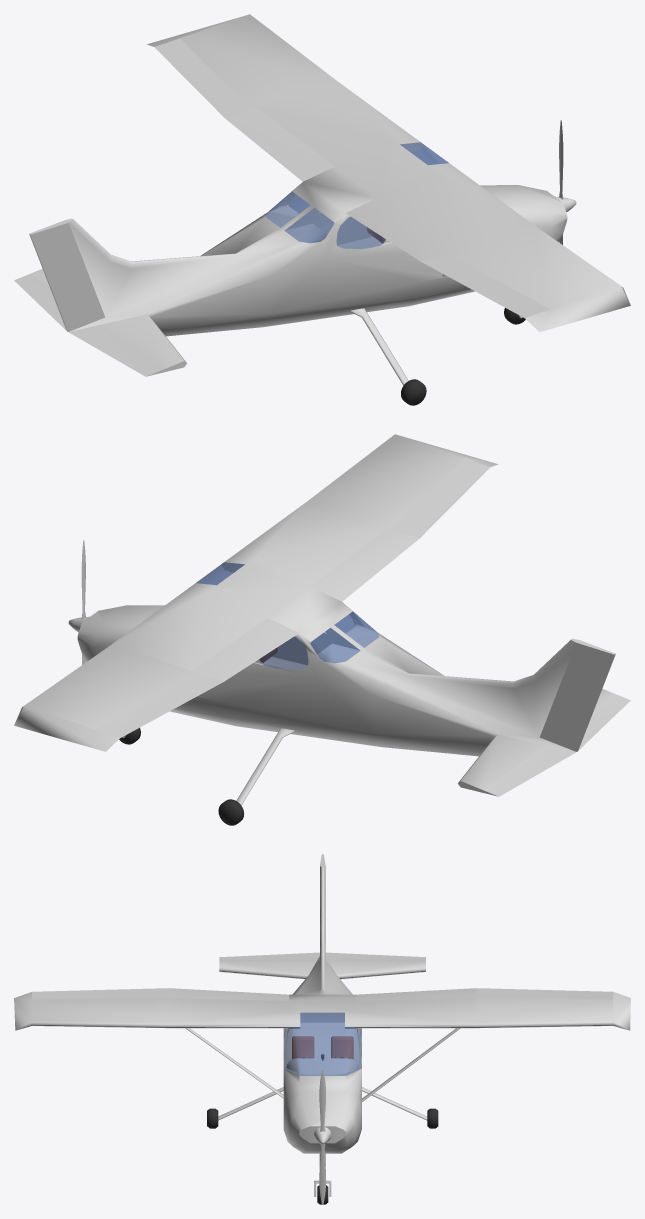
3 renders of one model, top to bottom at view 1: azimuth 30°, elevation 25°; view 2: azimuth 150°, elevation 25°; view 3: azimuth 270°, elevation 25°, orthographic. The views are drawn at different scales.
Parts seen in each view (by area): view 1: Model, wing_flap, wing_rudder, wing_aileron_left1, wing_aileron_right, wing_elevator_right, wing_elevator_left; view 2: Model, wing_flap, wing_rudder, wing_aileron_right, wing_aileron_left1, wing_elevator_left, wing_elevator_right; view 3: Model, wing_flap, wing_aileron_left1, wing_aileron_right, propeller, wing_elevator_right, wing_elevator_left.
Part boxes in pixels (<box>): Model: <box>30,14,630,405</box>; wing_flap: <box>225,108,452,261</box>; wing_rudder: <box>29,220,105,331</box>; wing_aileron_left1: <box>154,38,250,118</box>; wing_aileron_right: <box>421,253,549,318</box>; wing_elevator_right: <box>68,325,161,376</box>; wing_elevator_left: <box>14,274,66,330</box>; Model: <box>14,434,614,825</box>; wing_flap: <box>192,528,419,681</box>; wing_rudder: <box>539,640,615,751</box>; wing_aileron_right: <box>394,458,490,538</box>; wing_aileron_left1: <box>95,673,223,737</box>; wing_elevator_left: <box>483,745,576,796</box>; wing_elevator_right: <box>578,694,630,750</box>; Model: <box>14,865,630,1204</box>; wing_flap: <box>169,988,476,1000</box>; wing_aileron_left1: <box>476,988,613,999</box>; wing_aileron_right: <box>32,988,168,999</box>; propeller: <box>314,1070,331,1204</box>; wing_elevator_right: <box>219,952,319,961</box>; wing_elevator_left: <box>325,952,425,961</box>.
Size of the model in its own units: 886 by 329 by 1104.
